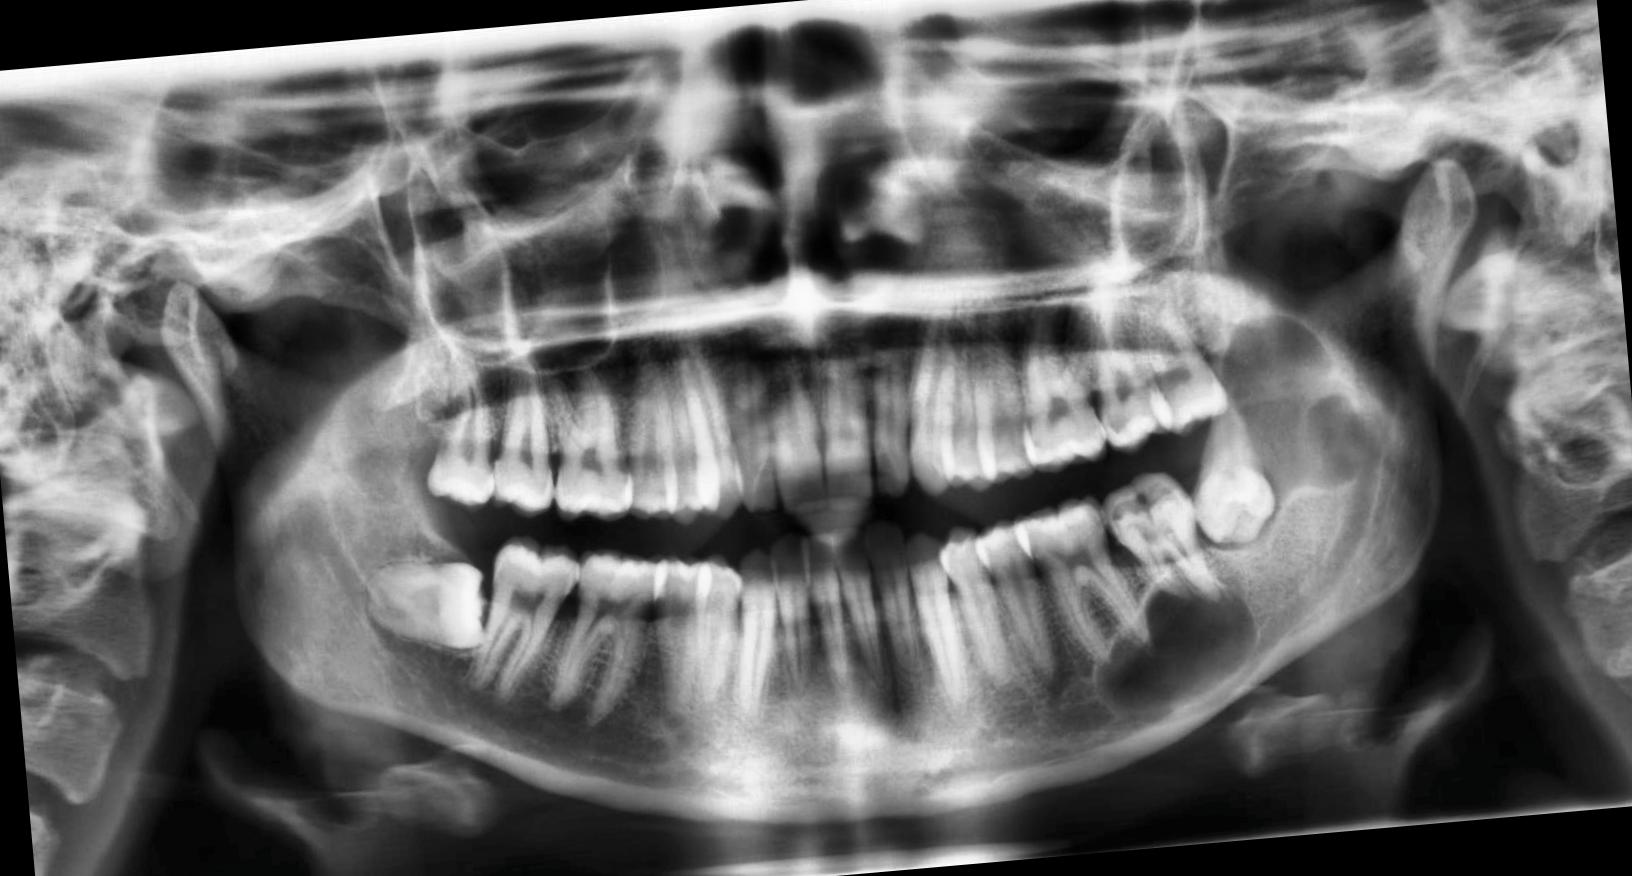okc: (1214, 301, 1379, 552), (1083, 564, 1267, 733)
